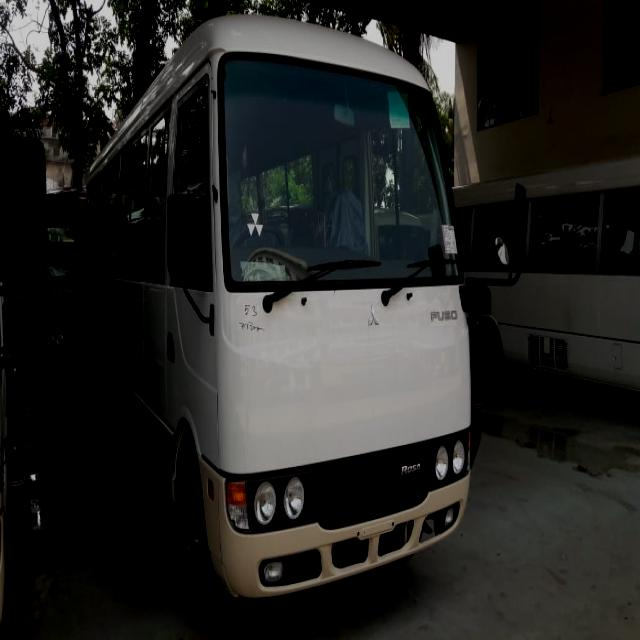bus: (89, 1, 495, 640)
